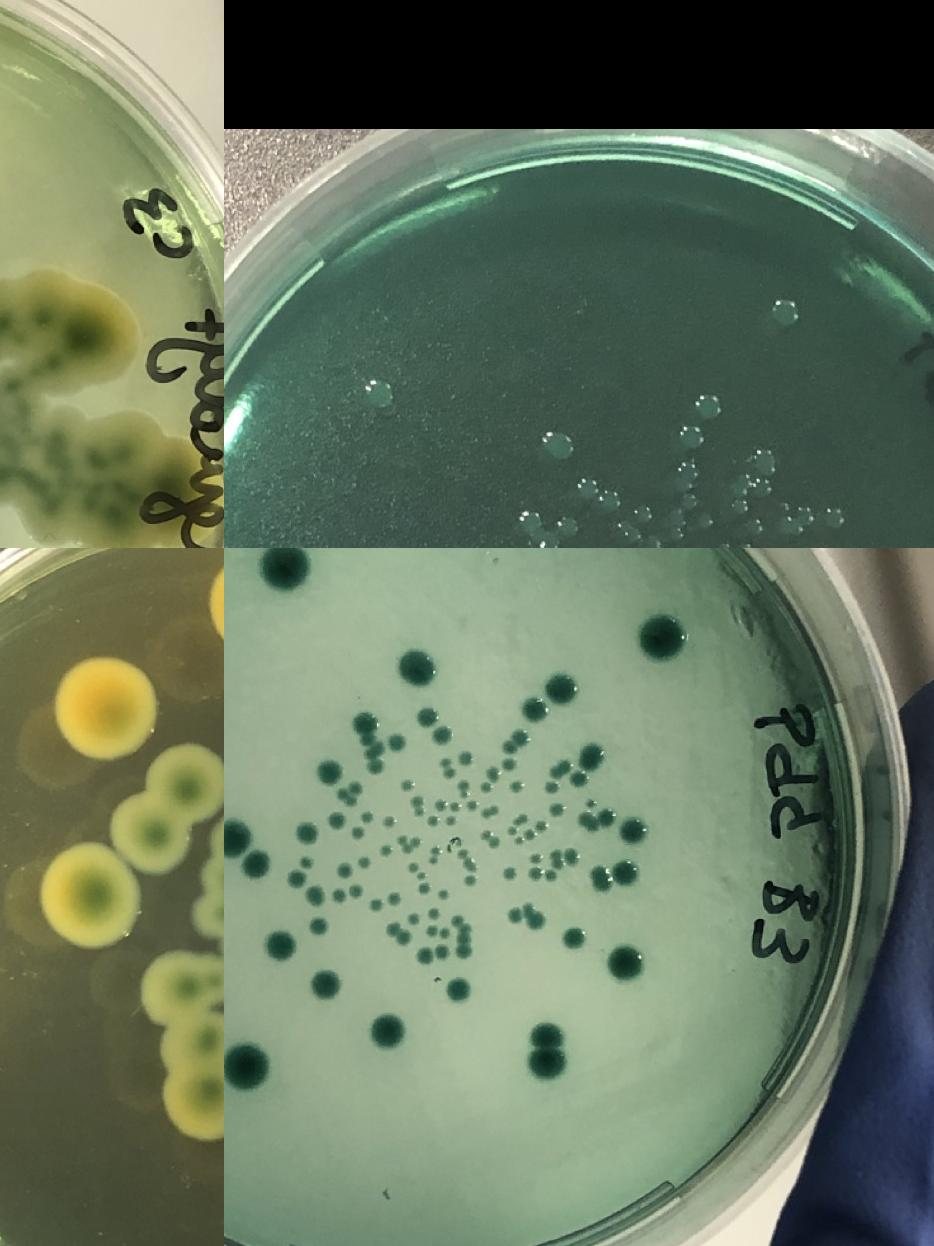pddamselae: (224, 817, 275, 882), (730, 450, 776, 514), (530, 1020, 566, 1080), (224, 1045, 266, 1089), (574, 475, 620, 514), (262, 548, 307, 587), (641, 620, 682, 658), (361, 730, 407, 762), (607, 946, 643, 982), (542, 514, 579, 548), (541, 671, 578, 705), (262, 930, 298, 964), (306, 966, 342, 1000), (398, 651, 434, 685), (369, 1014, 404, 1048), (782, 505, 814, 538), (451, 914, 473, 957), (363, 380, 391, 409), (502, 727, 531, 755), (542, 431, 570, 459), (406, 862, 429, 894), (354, 713, 376, 746), (517, 510, 541, 536), (680, 424, 704, 450), (696, 395, 720, 421), (774, 298, 798, 324), (394, 834, 422, 854), (386, 923, 410, 944), (676, 462, 698, 484), (740, 516, 762, 538), (822, 507, 844, 529), (286, 868, 308, 890), (307, 916, 329, 938), (325, 808, 347, 830), (415, 706, 437, 728), (432, 724, 454, 746), (524, 700, 546, 722), (563, 928, 585, 950), (581, 744, 603, 766), (590, 869, 612, 891), (614, 864, 636, 886), (621, 821, 643, 843), (295, 823, 316, 845), (304, 884, 325, 906), (447, 981, 469, 1002), (630, 534, 662, 548), (318, 762, 340, 782), (514, 828, 536, 847), (479, 829, 499, 849), (336, 788, 358, 806), (456, 848, 474, 869), (436, 798, 460, 813), (551, 760, 571, 778), (578, 814, 600, 829), (478, 805, 499, 820), (440, 758, 454, 780), (411, 796, 425, 817), (634, 508, 651, 524), (666, 528, 683, 544), (426, 846, 440, 865), (550, 850, 563, 870), (680, 495, 696, 511), (570, 771, 586, 787), (617, 520, 632, 536), (699, 514, 714, 530), (457, 779, 469, 798), (400, 780, 414, 792), (418, 950, 432, 962), (436, 890, 450, 902), (436, 947, 450, 959), (458, 753, 472, 765), (503, 760, 517, 772), (504, 825, 518, 837), (508, 911, 522, 923), (514, 813, 528, 825), (550, 804, 564, 816), (564, 850, 578, 862), (486, 768, 499, 780), (528, 914, 541, 926), (300, 857, 312, 869), (332, 890, 344, 902), (338, 866, 350, 878), (350, 781, 362, 793), (350, 885, 362, 897), (350, 828, 362, 840), (358, 856, 370, 868), (361, 811, 373, 823), (370, 899, 382, 911), (379, 845, 391, 857), (384, 815, 396, 827), (388, 893, 400, 905), (407, 914, 419, 926), (425, 926, 437, 938), (428, 816, 440, 828), (428, 908, 440, 920), (439, 928, 451, 940), (444, 815, 456, 827), (464, 875, 476, 887), (467, 799, 479, 811), (480, 782, 492, 794), (504, 868, 516, 880), (510, 780, 522, 792), (521, 902, 533, 914), (530, 852, 542, 864), (530, 867, 542, 879), (535, 821, 547, 833), (544, 869, 556, 881), (545, 781, 557, 793), (585, 797, 597, 809), (718, 543, 733, 548)
valgino: (38, 743, 224, 947), (139, 953, 224, 1140), (50, 655, 160, 763), (41, 287, 136, 385)
